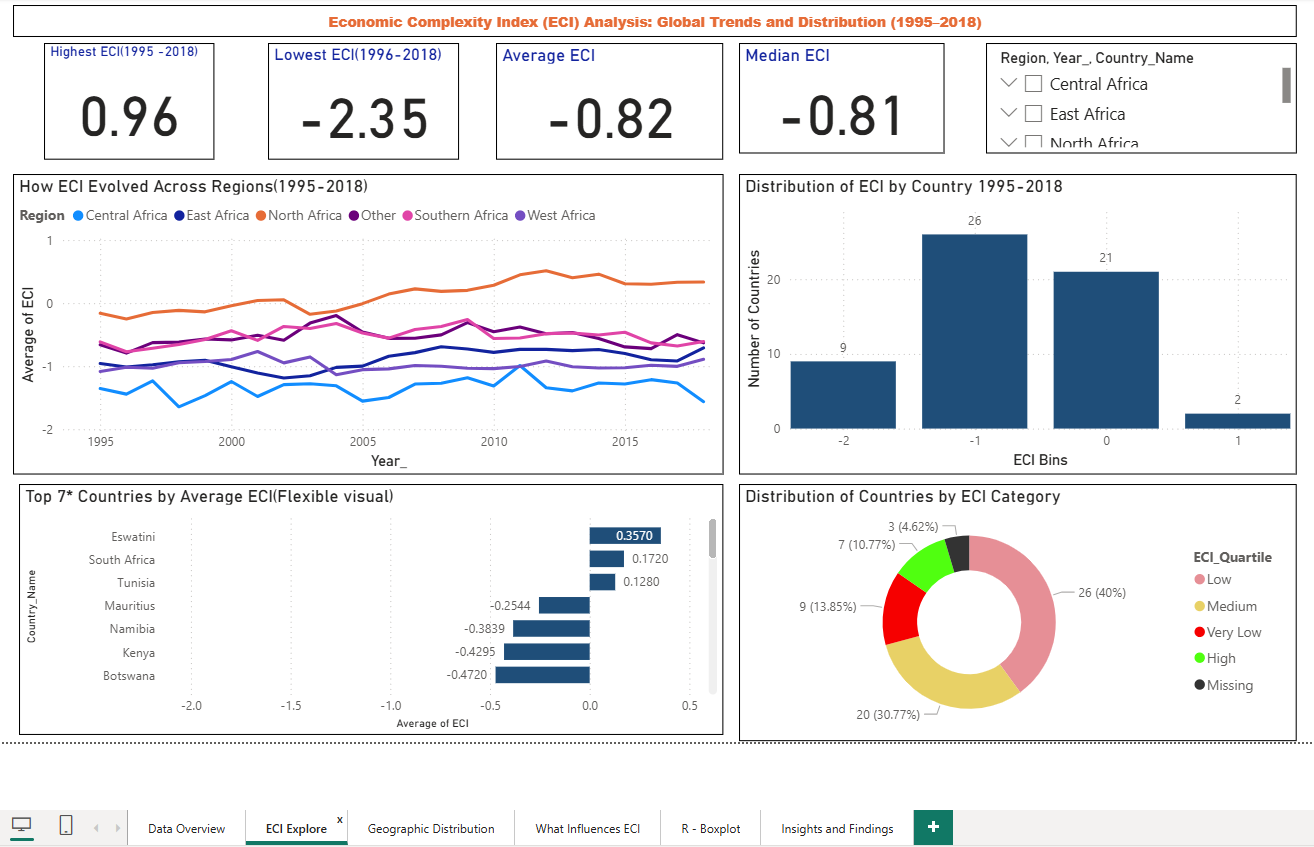

The page's visual inventory and layout, read from the dashboard file:
{"tool":"powerbi","page":{"name":"ECI Explore","canvas":[1280,720],"ordinal":1},"visuals":[{"type":"lineChart","title":"How ECI Evolved Across Regions(1995-2018)","fields":{"Category":["Energy_Data.Year_"],"Y":["Avg(Energy_Data.ECI)"],"Series":["Energy_Data.Region"]},"box":[12.6,170.2,687.7,290.8],"z":0},{"type":"card","title":"Highest ECI(1995 -2018)","fields":{"Values":["Energy_Data.High ECI"]},"box":[42.8,43.8,165.3,112.8],"z":1000},{"type":"card","title":"Lowest ECI(1996-2018)","fields":{"Values":["Energy_Data.Low_ECI"]},"box":[259.5,43.6,184.9,113.3],"z":2000},{"type":"clusteredColumnChart","title":"Distribution of ECI by Country 1995-2018","fields":{"Category":["Energy_Data.ECI_bins"],"Y":["Count(Energy_Data.Country_Name)"]},"box":[715.9,170.2,539.8,290.8],"z":3000},{"type":"donutChart","title":"Distribution of Countries by ECI Category","fields":{"Series":["Energy_Data.ECI_Quartile"],"Category":["Energy_Data.ECI_Quartile"],"Y":["Count(Energy_Data.Country_Name)"]},"box":[715.9,470.8,539.8,249],"z":4000},{"type":"clusteredBarChart","title":"Top 7* Countries by Average ECI(Flexible visual)","fields":{"Category":["Energy_Data.Country_Name"],"Y":["Avg(Energy_Data.ECI)"]},"box":[18.5,470.8,681.8,243.2],"z":5000},{"type":"textbox","box":[12.6,6.8,1243,31.1],"z":6000},{"type":"card","title":"Average ECI","fields":{"Values":["Energy_Data.average_ECI"]},"box":[480.5,43.8,219.8,112.8],"z":7000},{"type":"card","title":"Median ECI","fields":{"Values":["Energy_Data.Median_ECI"]},"box":[715.5,43.6,199.5,107.5],"z":8000},{"type":"slicer","fields":{"Values":["Energy_Data.Region","Energy_Data.Year_","Energy_Data.Country_Name"]},"box":[954.7,43.6,301.1,107.5],"z":9000}]}

Visuals, with their boxes on the page's 1280x720 design canvas (x1, y1, x2, y2). These are canvas units, not pixel positions in the 1314x847 screenshot, which may show the page scaled, cropped or inside an application window:
"How ECI Evolved Across Regions(1995-2018)" lineChart: (left=13, top=170, right=700, bottom=461)
"Highest ECI(1995 -2018)" card: (left=43, top=44, right=208, bottom=157)
"Lowest ECI(1996-2018)" card: (left=260, top=44, right=444, bottom=157)
"Distribution of ECI by Country 1995-2018" clusteredColumnChart: (left=716, top=170, right=1256, bottom=461)
"Distribution of Countries by ECI Category" donutChart: (left=716, top=471, right=1256, bottom=720)
"Top 7* Countries by Average ECI(Flexible visual)" clusteredBarChart: (left=18, top=471, right=700, bottom=714)
textbox: (left=13, top=7, right=1256, bottom=38)
"Average ECI" card: (left=480, top=44, right=700, bottom=157)
"Median ECI" card: (left=716, top=44, right=915, bottom=151)
slicer - Energy_Data.Region x Energy_Data.Year_: (left=955, top=44, right=1256, bottom=151)
